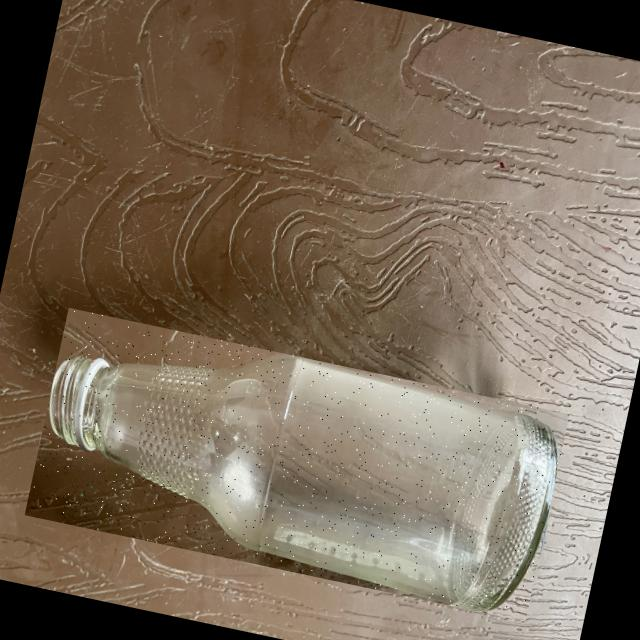Glass_Bottle: (50, 354, 557, 610)
